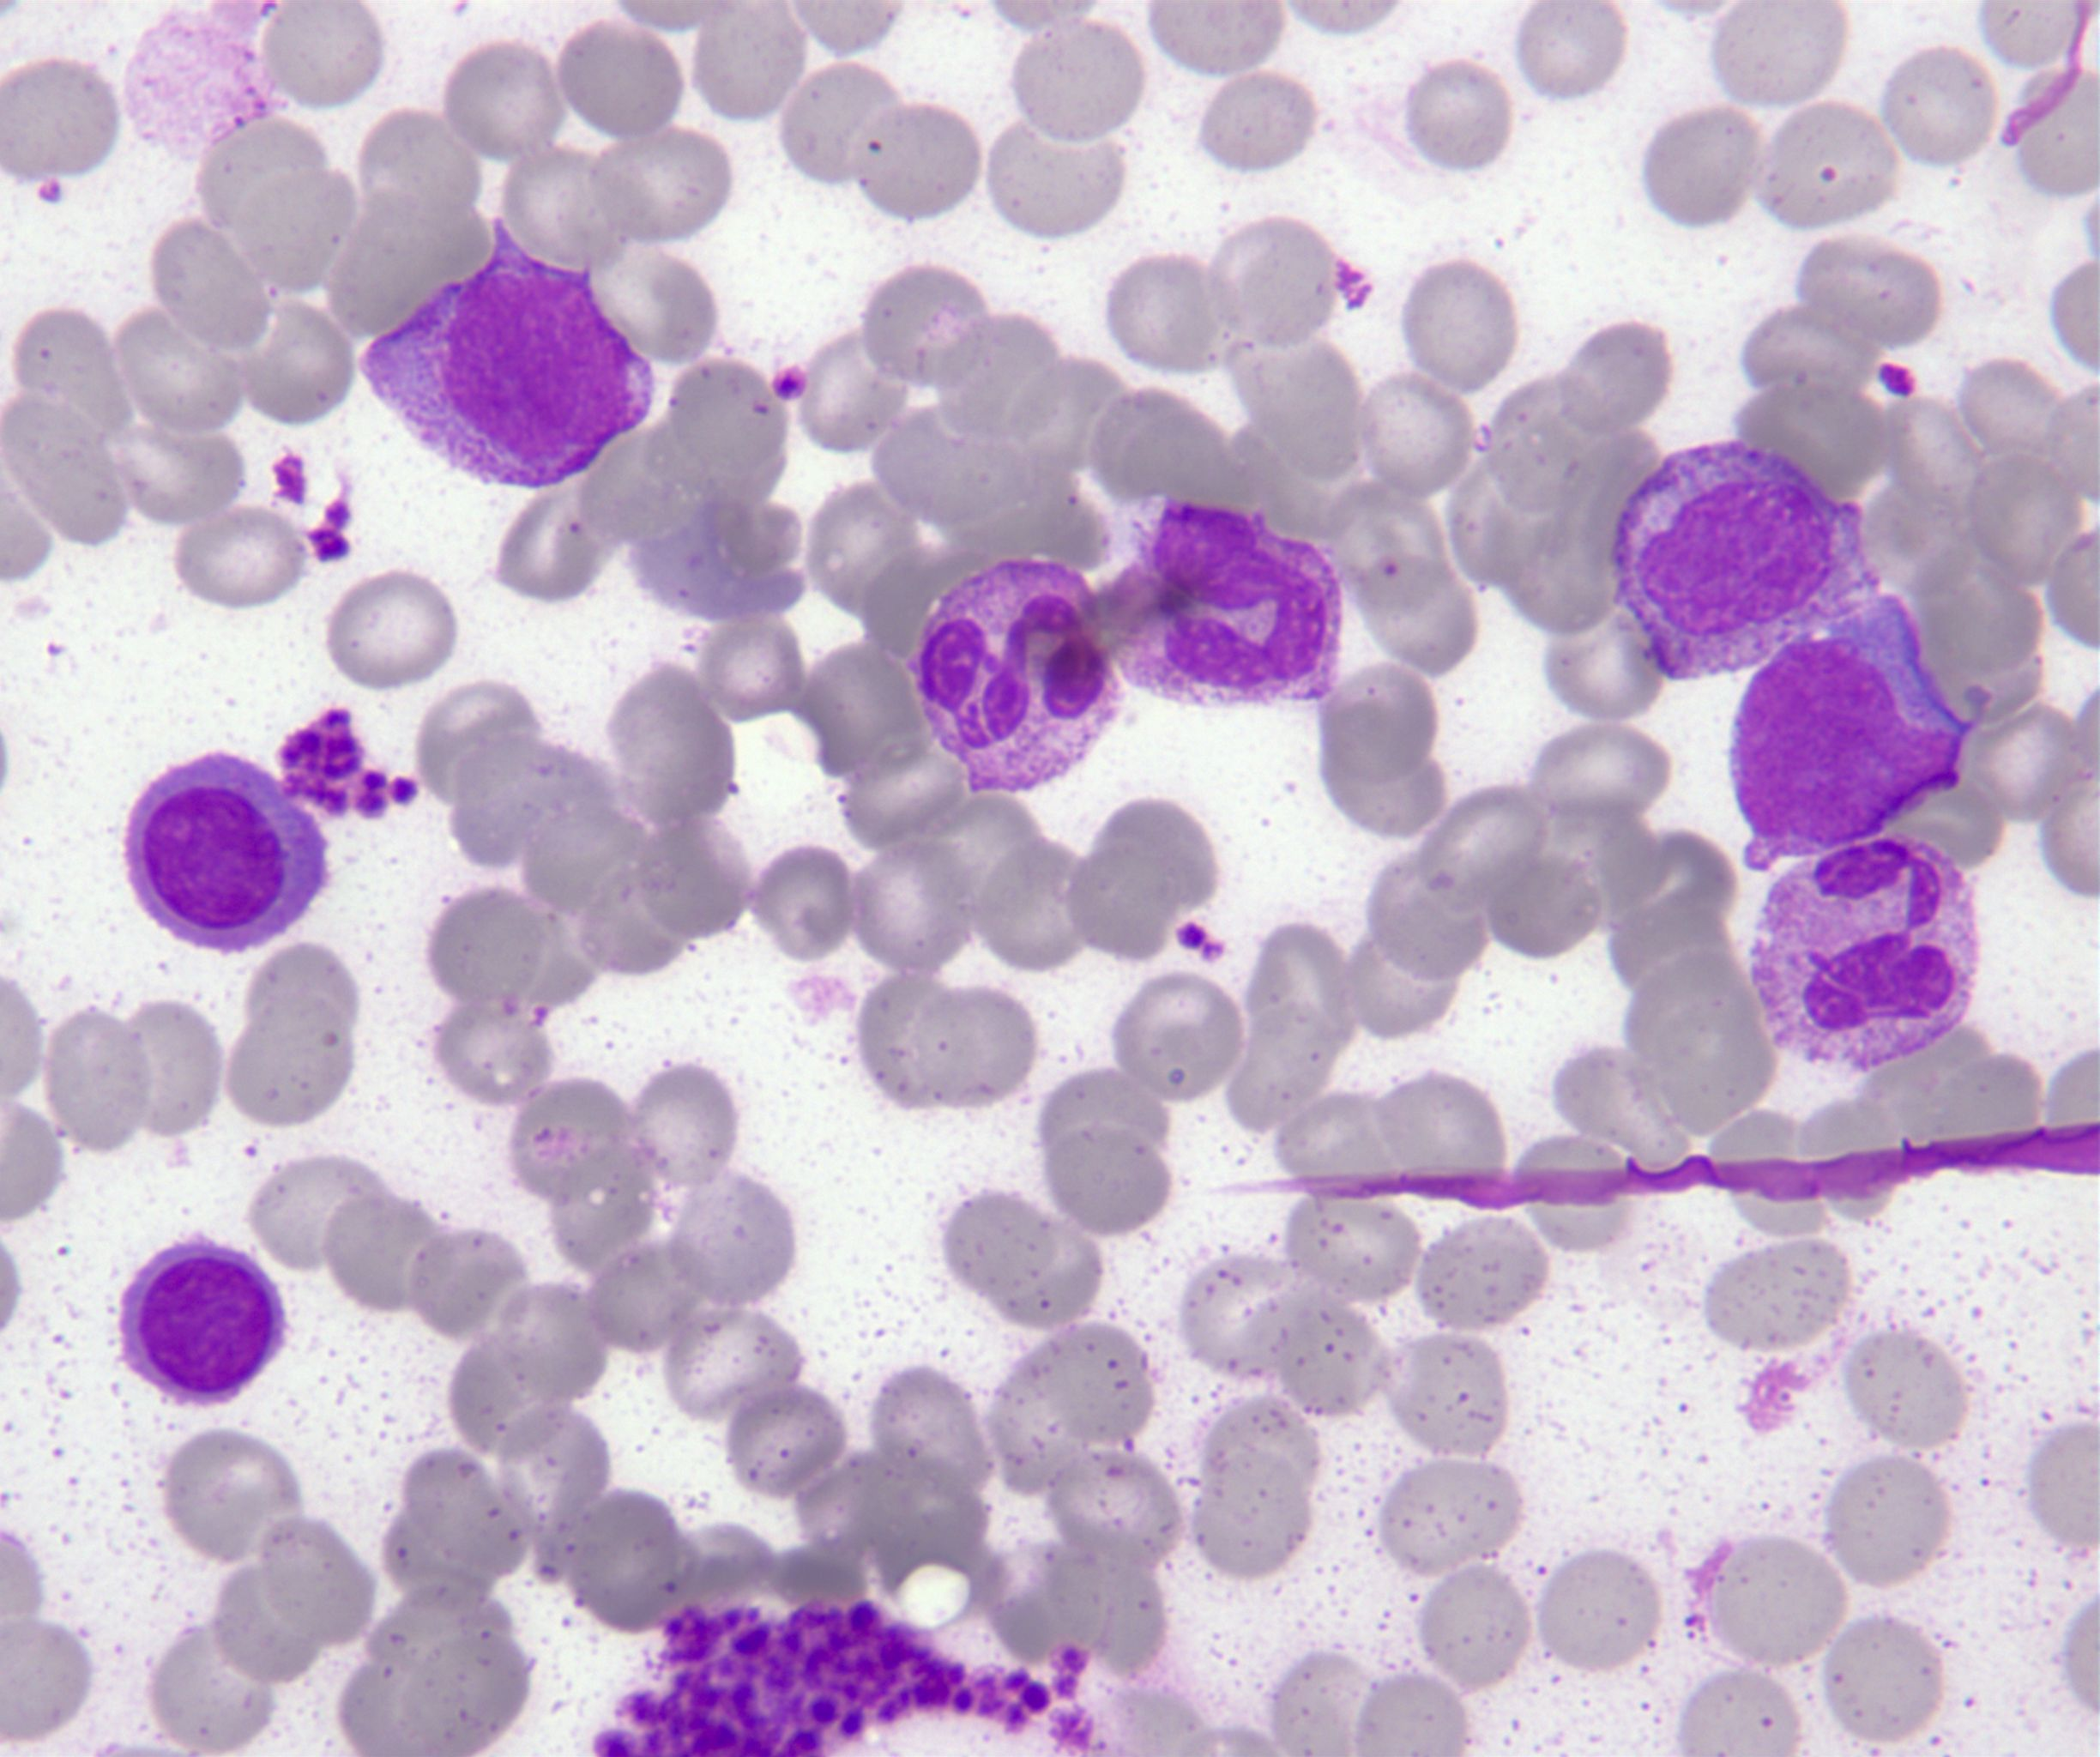2: (351, 211, 659, 499)
3: (1608, 433, 1887, 687)
32: (119, 750, 331, 960), (115, 1232, 295, 1412)
5: (1113, 489, 1348, 717)
6: (1744, 829, 1983, 1077), (900, 555, 1130, 804)
x: (1723, 586, 1974, 878)
